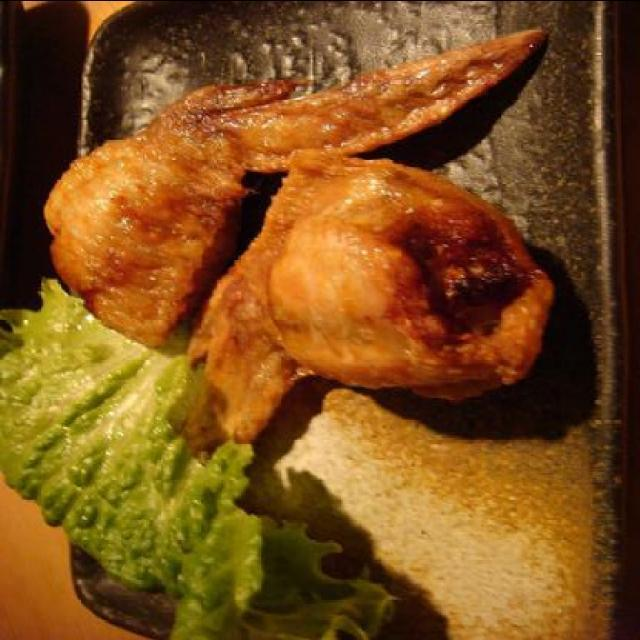Deep fried chicken wing: (64, 31, 554, 429)
Salad: (9, 316, 328, 626)
